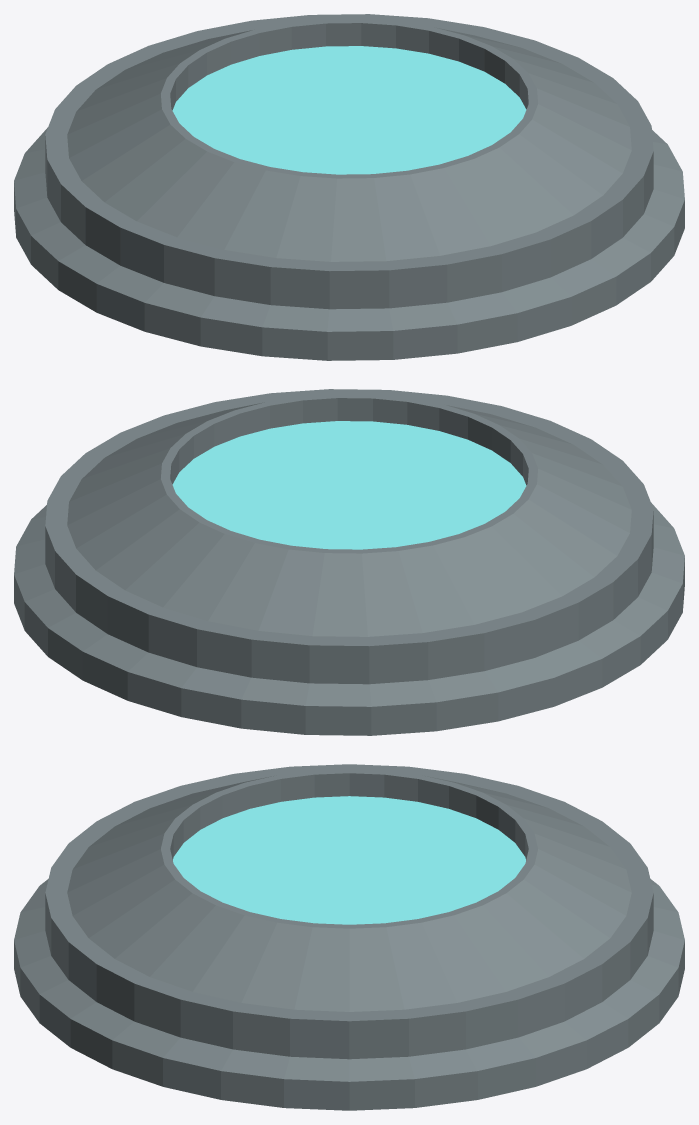
The model's file is Teleporter.fbx.
3 renders of one model, top to bottom at view 1: azimuth 30°, elevation 25°; view 2: azimuth 150°, elevation 25°; view 3: azimuth 270°, elevation 25°, orthographic.
Parts seen in each view (by area): view 1: Cylinder; view 2: Cylinder; view 3: Cylinder.
Boxes of the visible parts, bbox=[...] form: Cylinder: bbox=[14, 14, 684, 360]; Cylinder: bbox=[14, 389, 684, 735]; Cylinder: bbox=[14, 764, 684, 1110].
Bounding box in the file's own units: 399 × 78.66 × 399.
